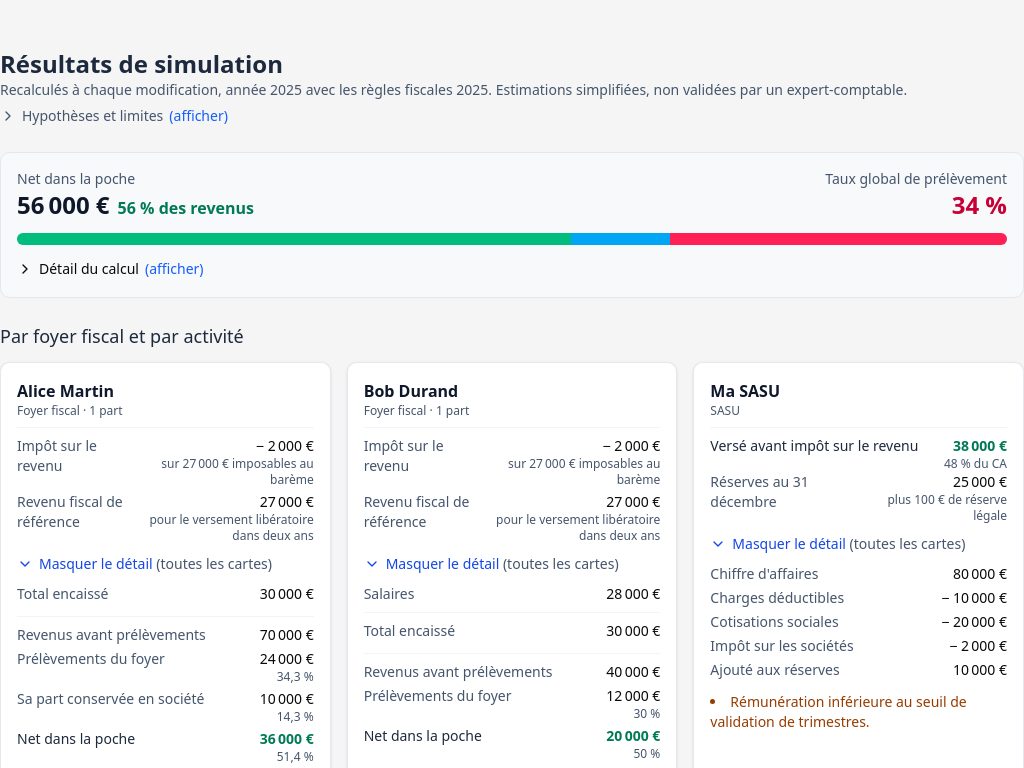
Test: détail des cartes retenu dans les préférences › reprend l'état retenu, et retient la bascule sous un seul identifiant
This screenshot has width=1024, height=768.
Click the button "Masquer le détail (toutes les cartes)" below "Alice Martin" at (144, 564), box [17,552,272,576]
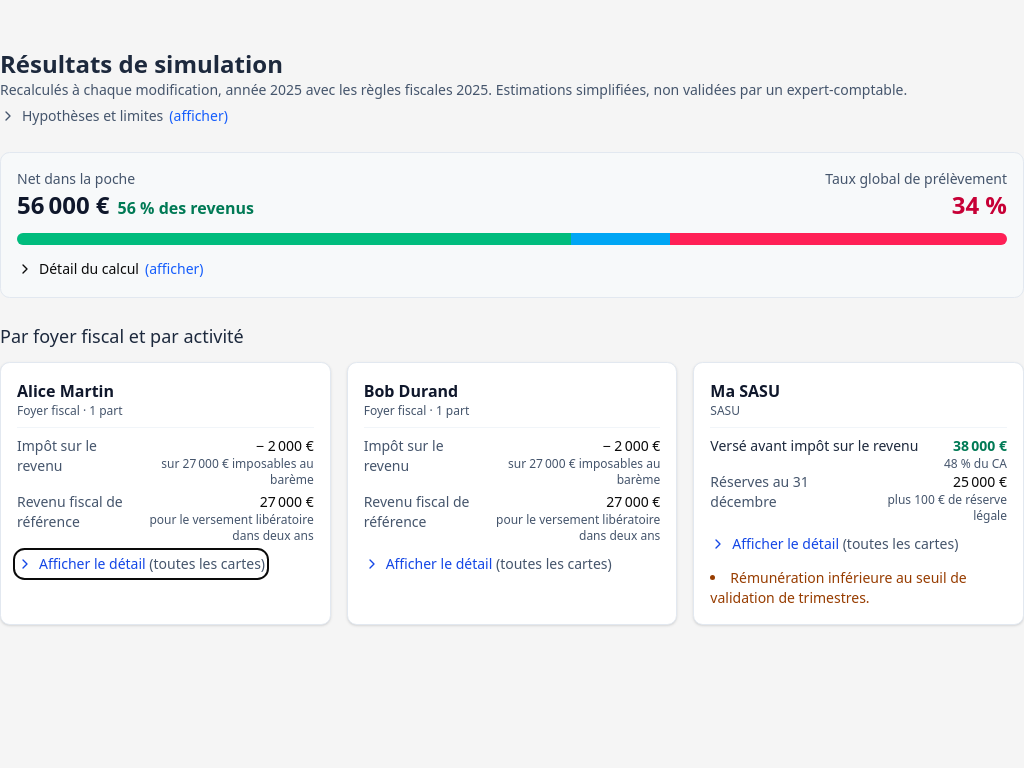
Result: the button "Afficher le détail (toutes les cartes)" below "Alice Martin" is collapsed at [17,552,265,576]
Result: the button "Afficher le détail (toutes les cartes)" below "Bob Durand" is collapsed at [364,552,612,576]
Result: the button "Afficher le détail (toutes les cartes)" below "plus 100 € de réserve légale" is collapsed at [710,532,958,556]
